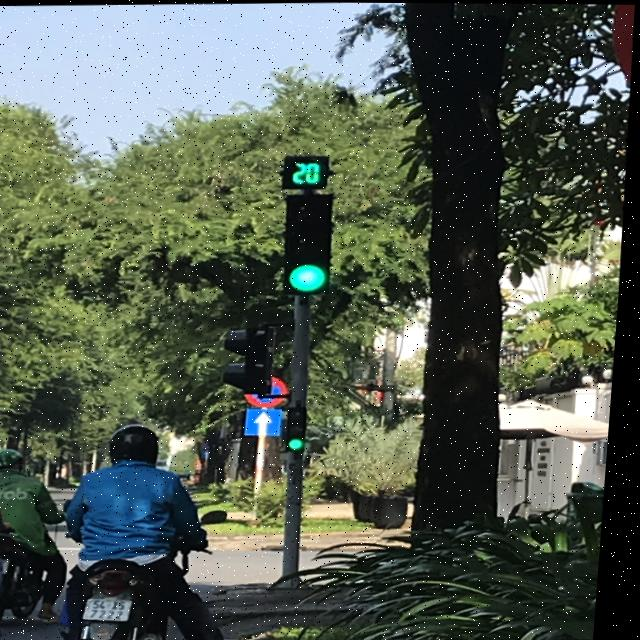Green: (273, 190, 348, 293), (284, 397, 323, 460)
